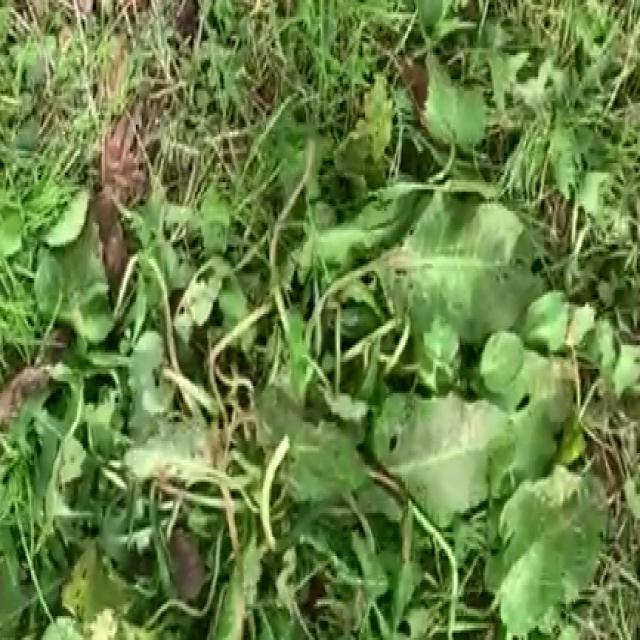organic waste: (44, 100, 608, 640)
